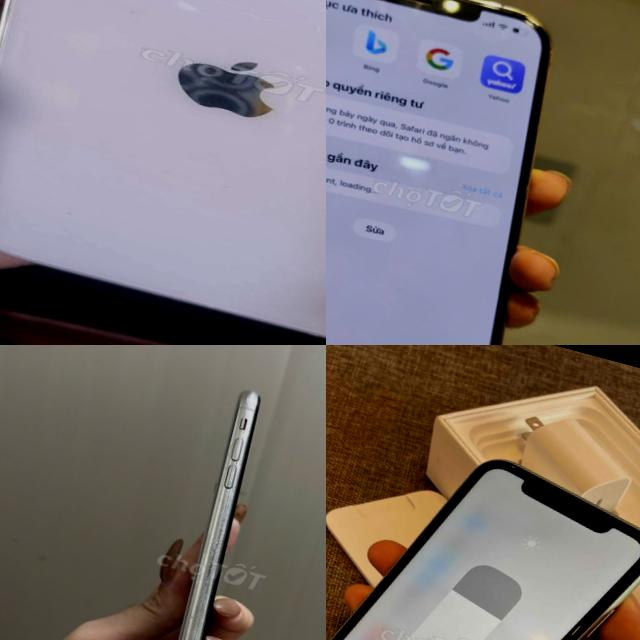gen_11: (330, 459, 640, 640)
gen_12_13: (0, 0, 326, 345), (326, 0, 601, 345)
gen_x_xs: (145, 384, 276, 640)
scratch: (162, 488, 240, 640), (216, 462, 243, 490)
